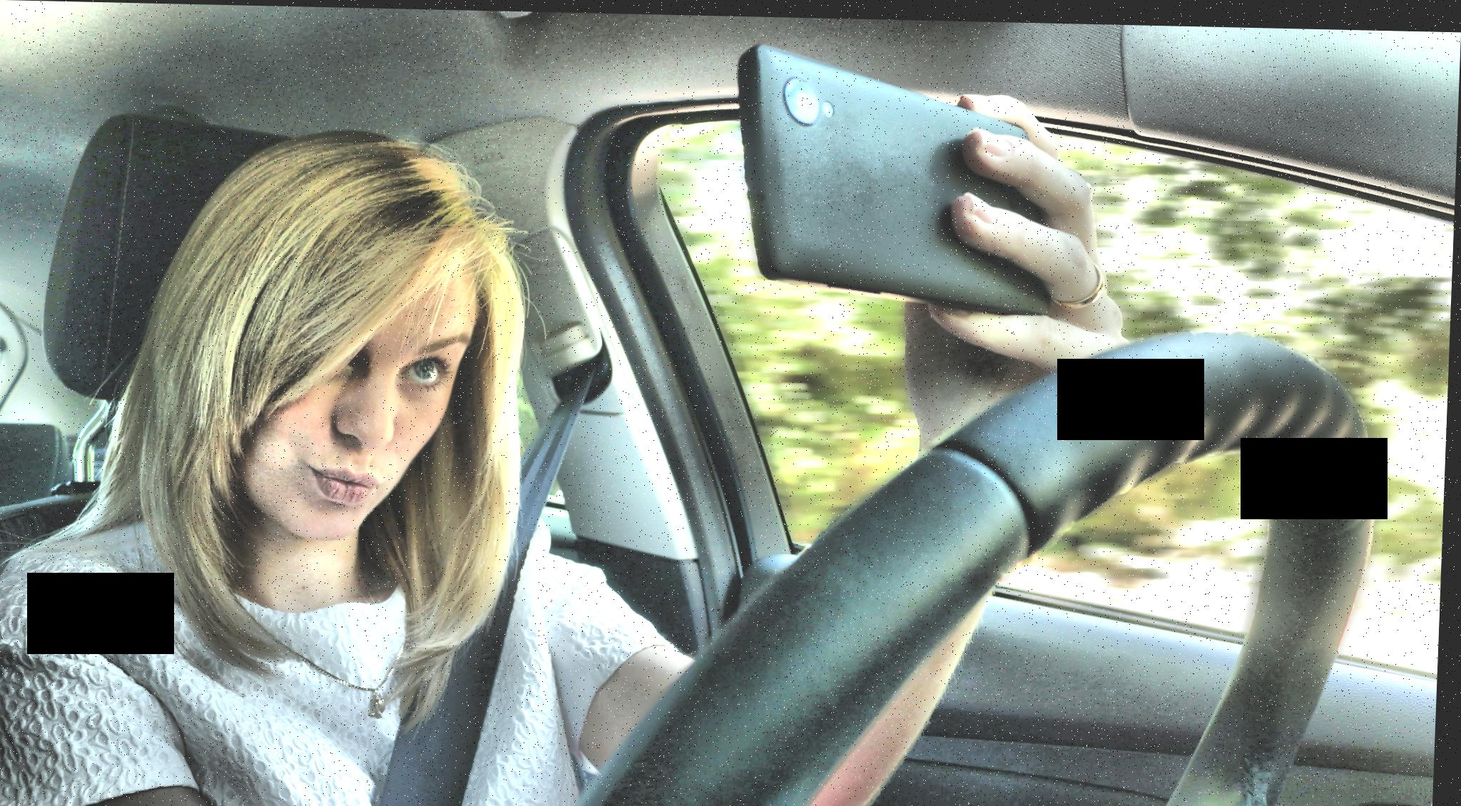seatbelt: (382, 335, 629, 806)
